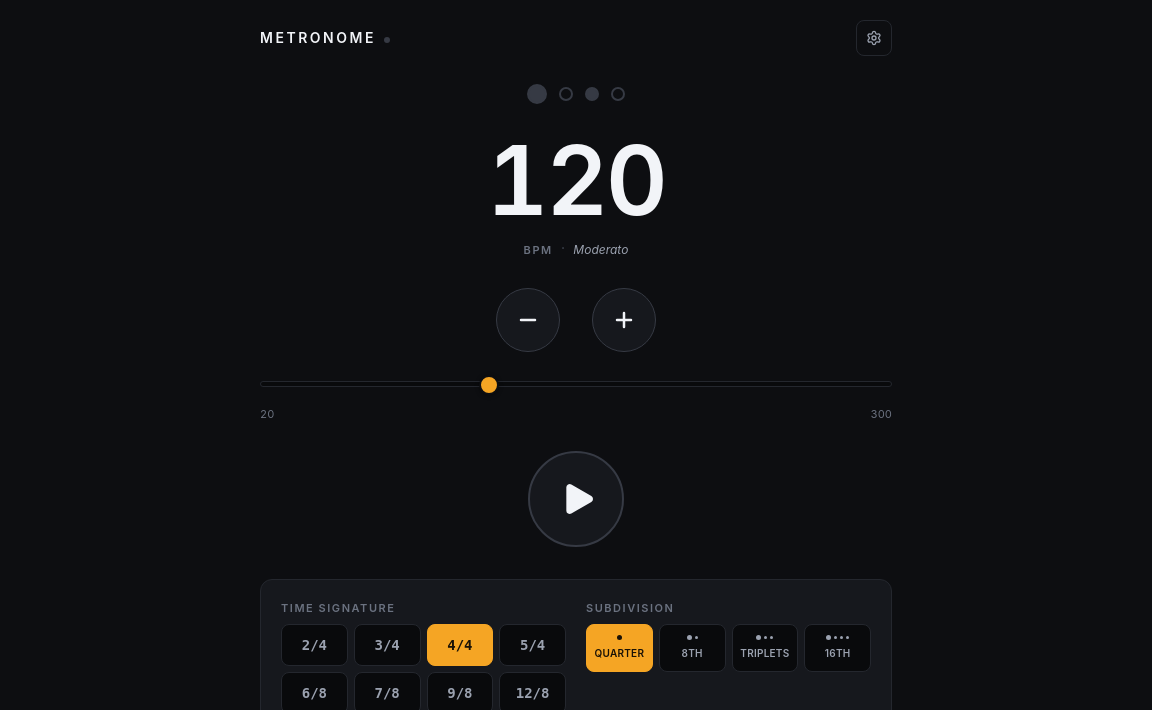
Test: App › disables the swing slider for triplets
Step 1. Click the radio button with aria-label "8th Triplets" → (765, 648), box [732,624,798,672]
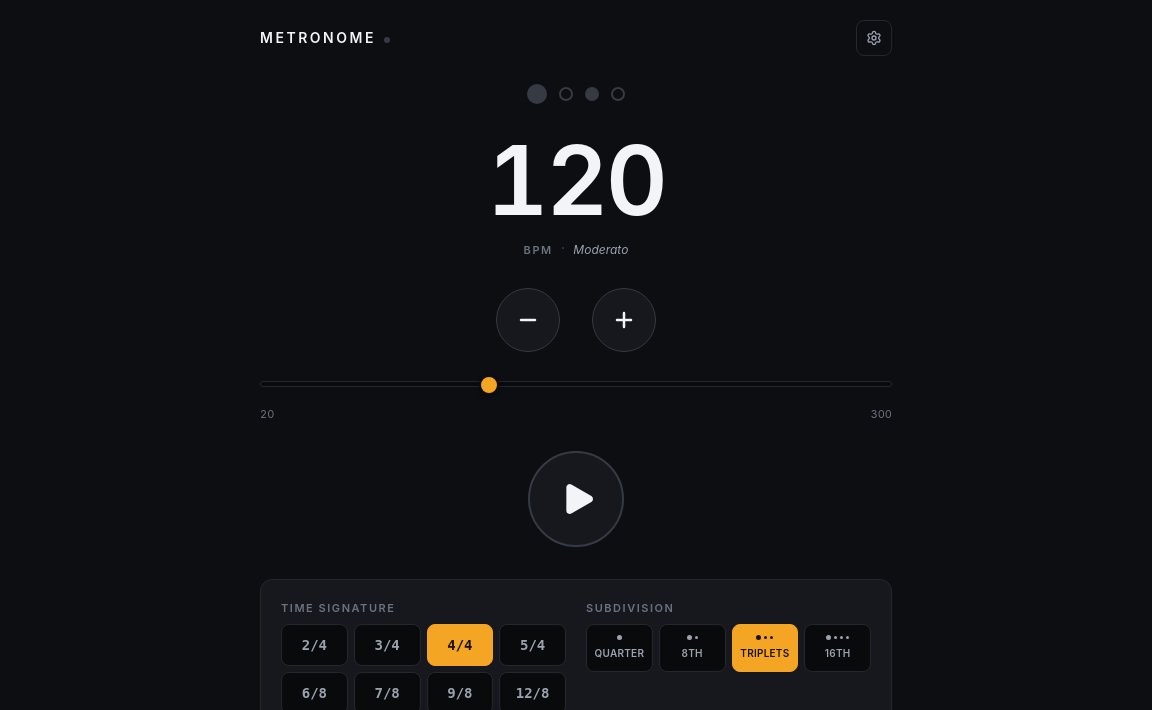
Step 2. Click the button named "Open settings" → (874, 38), box [856,20,892,56]
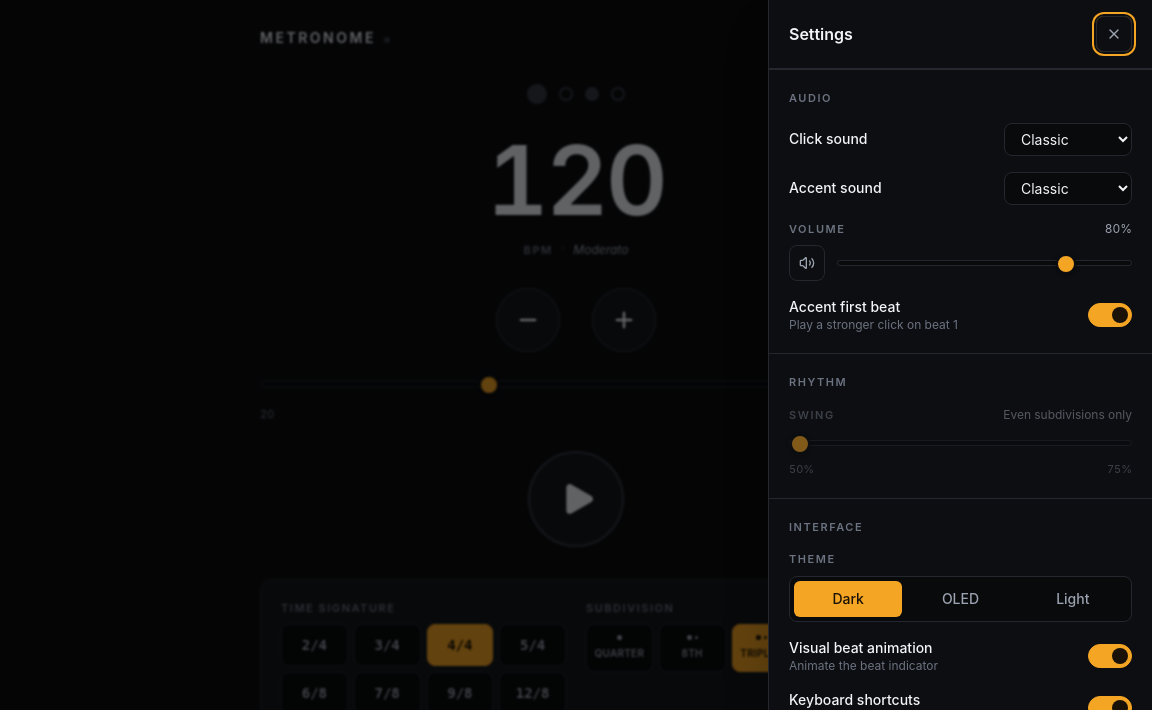
Check: the slider named "Swing amount" is disabled, box [789,431,1132,455]
